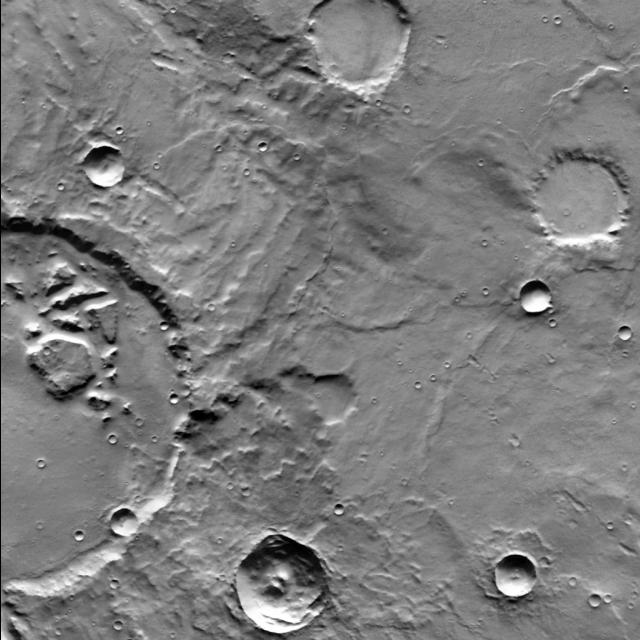crater: (0, 0, 640, 640), (0, 230, 193, 598), (162, 379, 412, 628), (401, 158, 543, 300), (304, 0, 414, 97), (530, 155, 628, 253), (235, 545, 327, 637), (300, 328, 352, 381), (306, 381, 354, 428), (495, 560, 537, 602), (83, 151, 125, 193), (518, 286, 550, 318), (110, 514, 136, 542), (617, 332, 630, 344), (589, 600, 600, 611), (333, 511, 344, 522), (74, 537, 84, 547), (167, 399, 177, 409), (257, 147, 267, 157), (158, 326, 168, 336), (508, 441, 518, 451), (220, 59, 230, 69), (240, 492, 250, 502), (538, 562, 548, 572), (106, 440, 115, 450), (109, 586, 118, 596), (574, 507, 584, 516), (133, 423, 142, 432), (566, 524, 575, 533), (568, 582, 576, 592), (112, 628, 120, 637), (36, 466, 44, 474), (113, 132, 121, 140), (604, 600, 612, 608), (606, 528, 614, 536), (546, 14, 554, 22), (547, 324, 555, 332), (426, 32, 434, 40), (41, 352, 49, 359), (351, 452, 359, 459), (613, 462, 620, 470), (49, 181, 56, 188), (395, 106, 402, 112), (286, 151, 292, 158), (200, 302, 207, 308), (220, 482, 226, 488), (48, 627, 54, 633), (406, 380, 412, 386), (555, 206, 561, 212), (540, 355, 546, 361)
